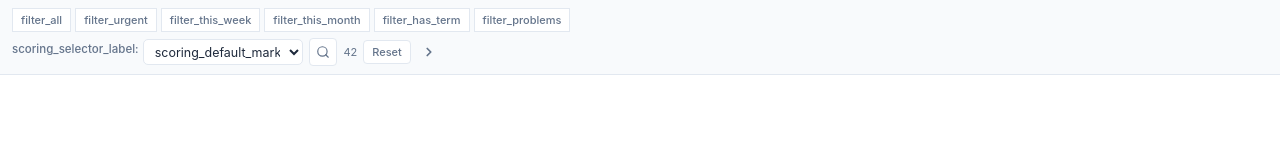
Scenario: InboxFilterBar › clears search when toggle clicked again (close)
# Open first
Click the button with test id "inbox-search-toggle": coordinates (323, 52) x1=309 y1=38 x2=337 y2=66
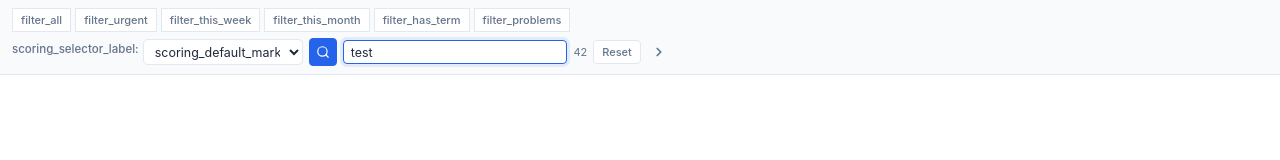
Check: the field with test id "inbox-search-input" is shown, box x1=343 y1=40 x2=567 y2=64
# Close — should clear
Click the button with test id "inbox-search-toggle": coordinates (323, 52) x1=309 y1=38 x2=337 y2=66
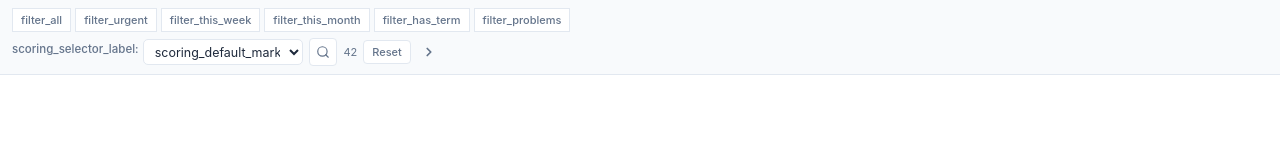
Check: the field with test id "inbox-search-input" is gone
